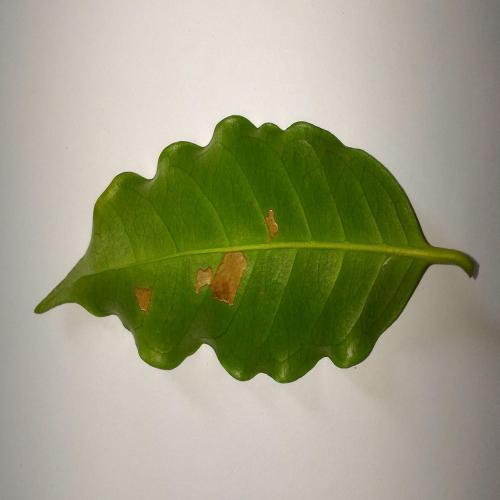leaf: (264, 209, 278, 240)
